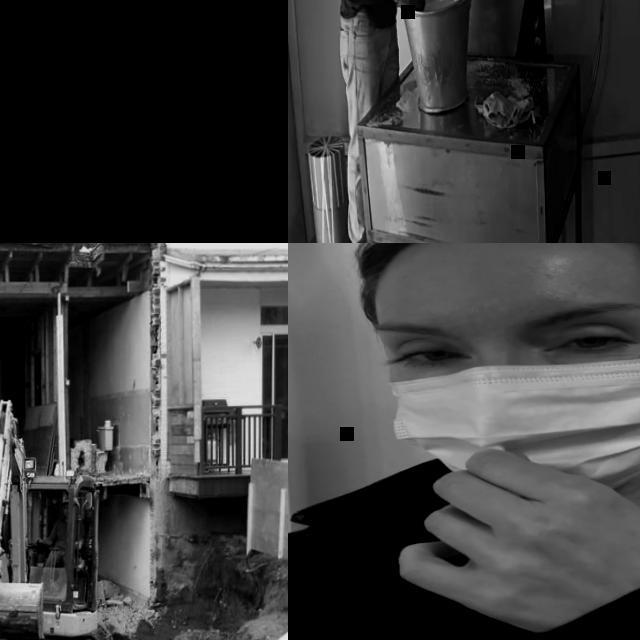machinery: (0, 399, 164, 640)
mask: (379, 309, 640, 492)
no_helmet: (363, 243, 640, 277), (61, 493, 72, 503)
no_mask: (64, 512, 68, 518)
no_vest: (288, 501, 640, 640), (54, 517, 80, 548)
person: (288, 243, 640, 640), (325, 0, 465, 243), (33, 494, 84, 588)
